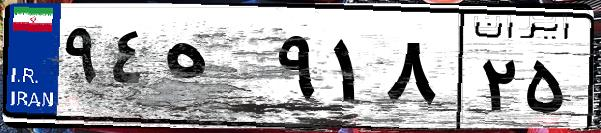1: (330, 28, 385, 110)
2: (475, 38, 525, 113)
4: (110, 28, 158, 98)
5: (525, 38, 570, 115)
8: (385, 28, 445, 110)
9: (270, 28, 330, 110), (57, 26, 110, 100)
ه: (158, 20, 270, 120)
